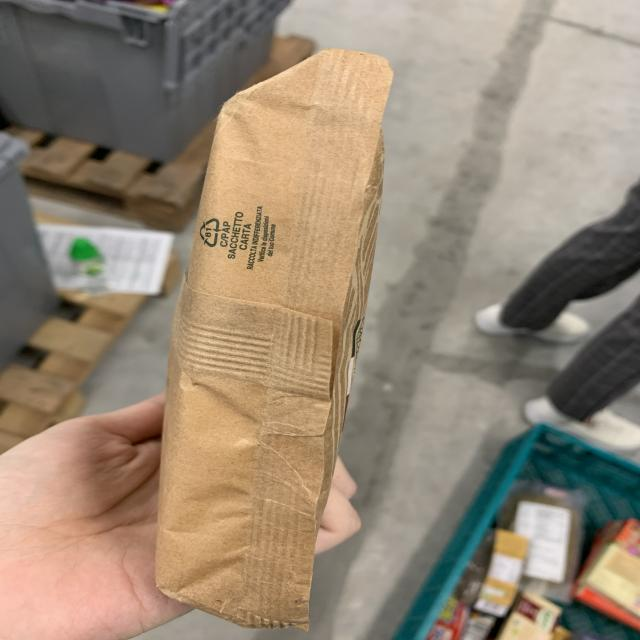object_name: (202, 76, 355, 617)
